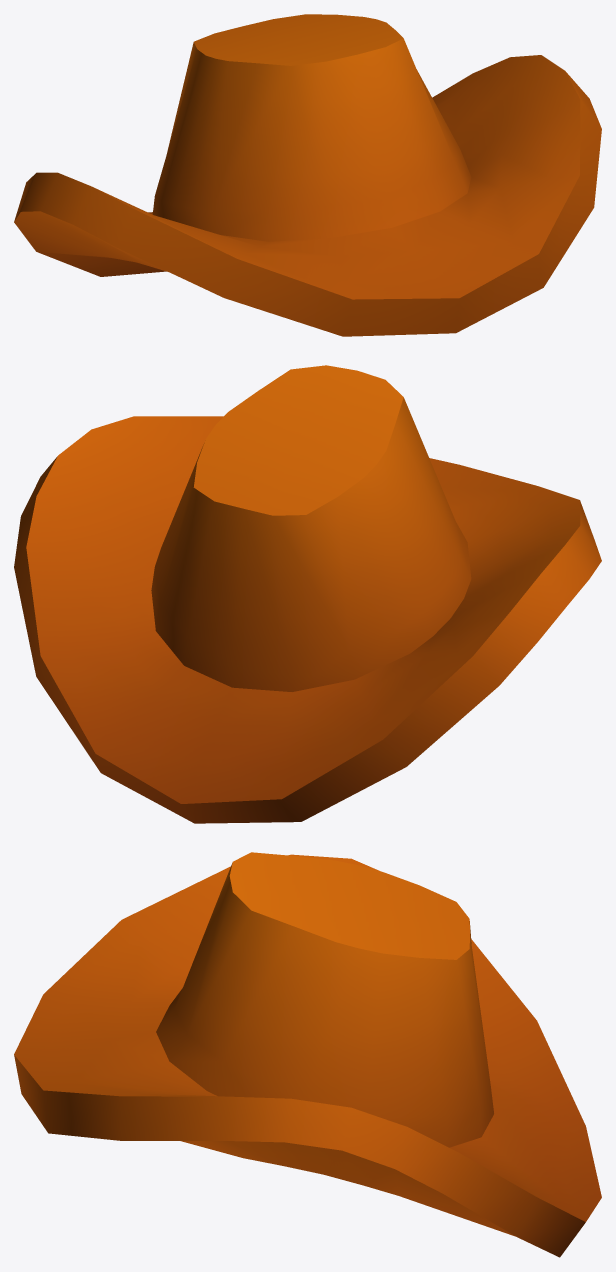
File: Head_Prop_Hat_Cowboy_01.fbx
3 renders of one model, top to bottom at view 1: azimuth 30°, elevation 25°; view 2: azimuth 150°, elevation 25°; view 3: azimuth 270°, elevation 25°, orthographic. The views are drawn at different scales.
Parts seen in each view (by area): view 1: Head_Prop_Hat_Cowboy_01; view 2: Head_Prop_Hat_Cowboy_01; view 3: Head_Prop_Hat_Cowboy_01.
Boxes of the visible parts, <box> form: Head_Prop_Hat_Cowboy_01: <box>14,14,601,336</box>; Head_Prop_Hat_Cowboy_01: <box>14,365,601,823</box>; Head_Prop_Hat_Cowboy_01: <box>14,852,601,1257</box>.
Bounding box in the file's own units: 185 × 112 × 169.
